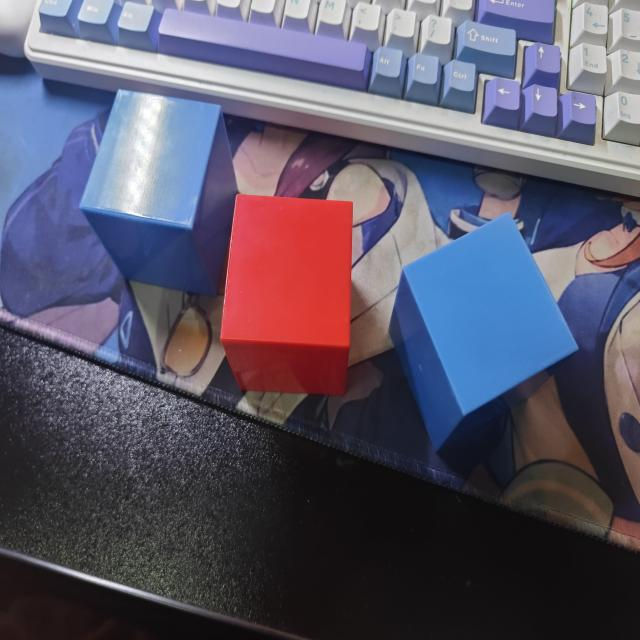blue: (388, 210, 578, 456), (80, 85, 238, 297)
red: (220, 195, 355, 398)
